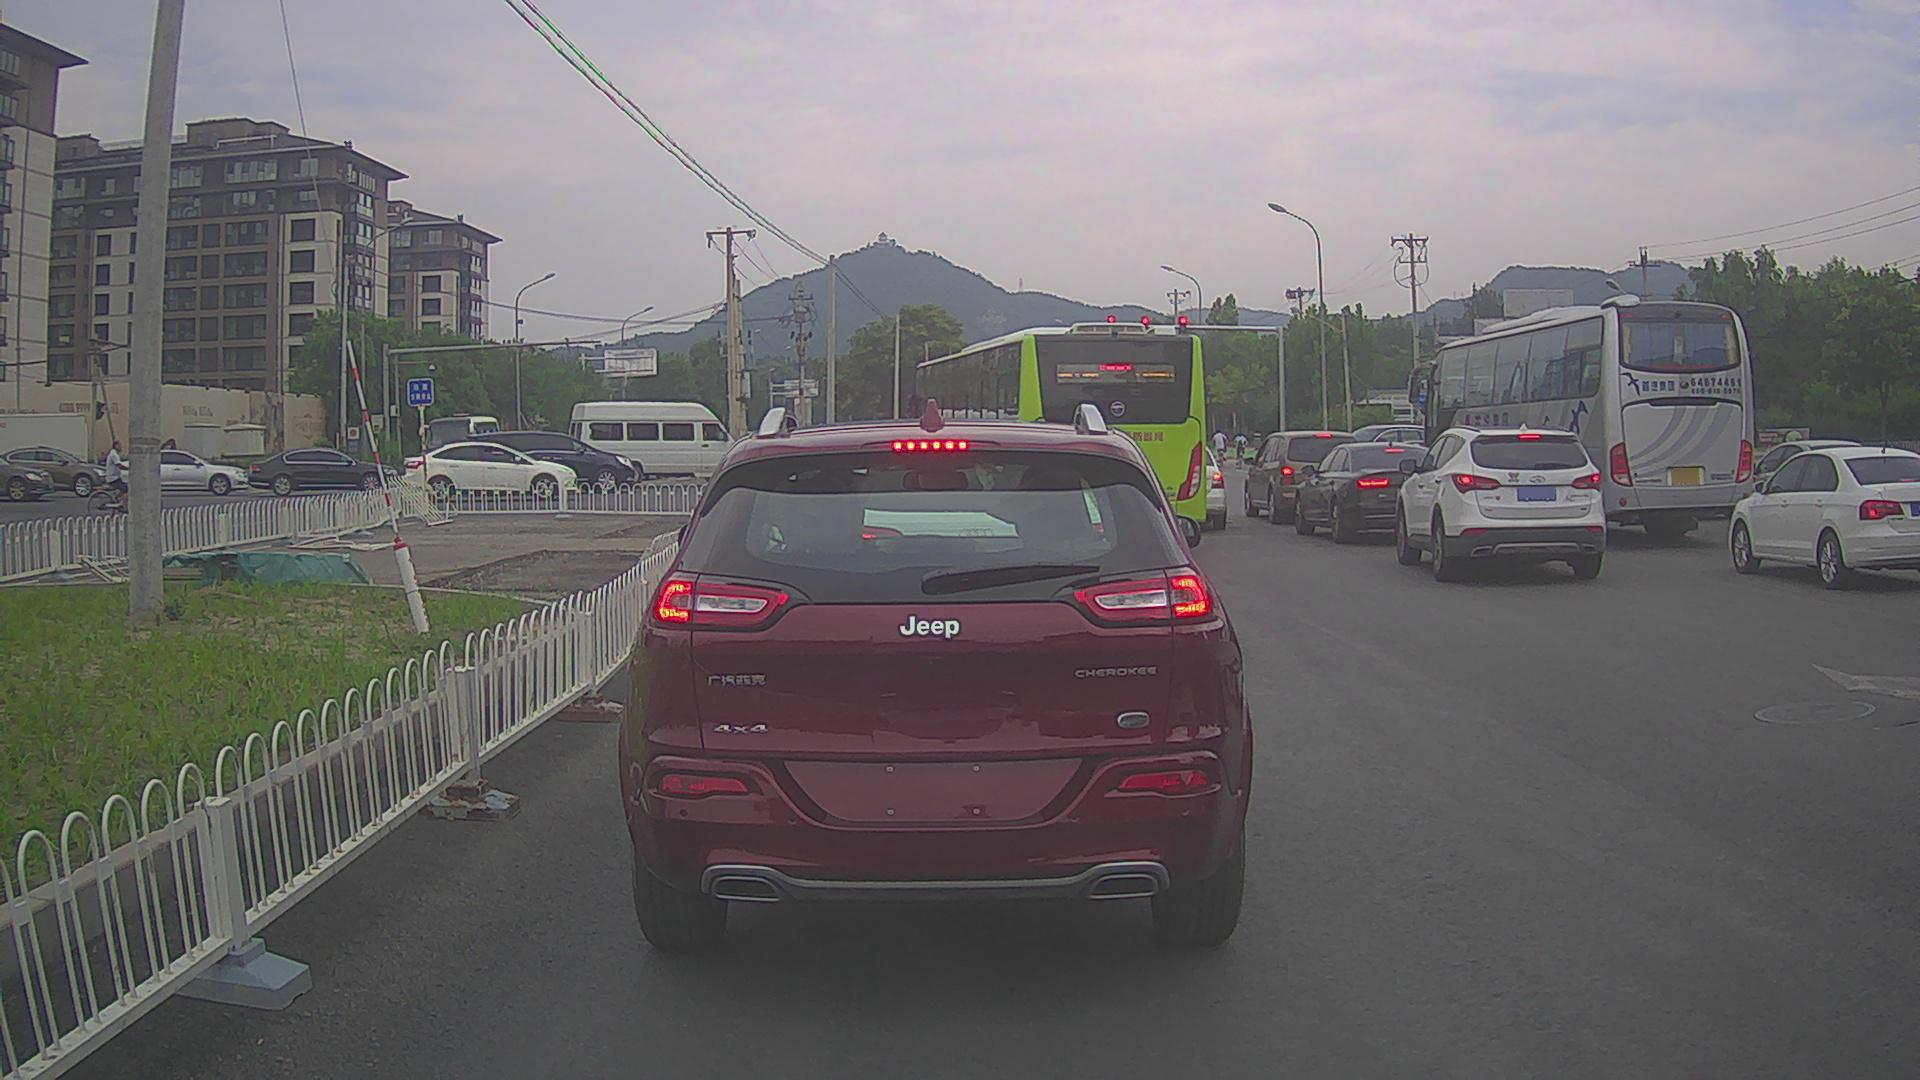bus: (1405, 292, 1756, 549), (898, 320, 1208, 573), (417, 412, 503, 501)
car: (615, 403, 1253, 951), (1393, 423, 1608, 583), (1722, 446, 1918, 590), (1292, 440, 1458, 544), (440, 429, 639, 495), (1243, 430, 1377, 526), (401, 440, 579, 504), (1316, 424, 1456, 500), (245, 446, 399, 498), (107, 448, 250, 497), (2, 444, 111, 499)
cyclist: (86, 437, 165, 525), (1211, 427, 1228, 467), (1233, 430, 1248, 470)
ignore: (1756, 439, 1862, 494), (0, 457, 57, 503), (1352, 424, 1426, 446), (159, 438, 177, 450)
van: (558, 400, 751, 486)
